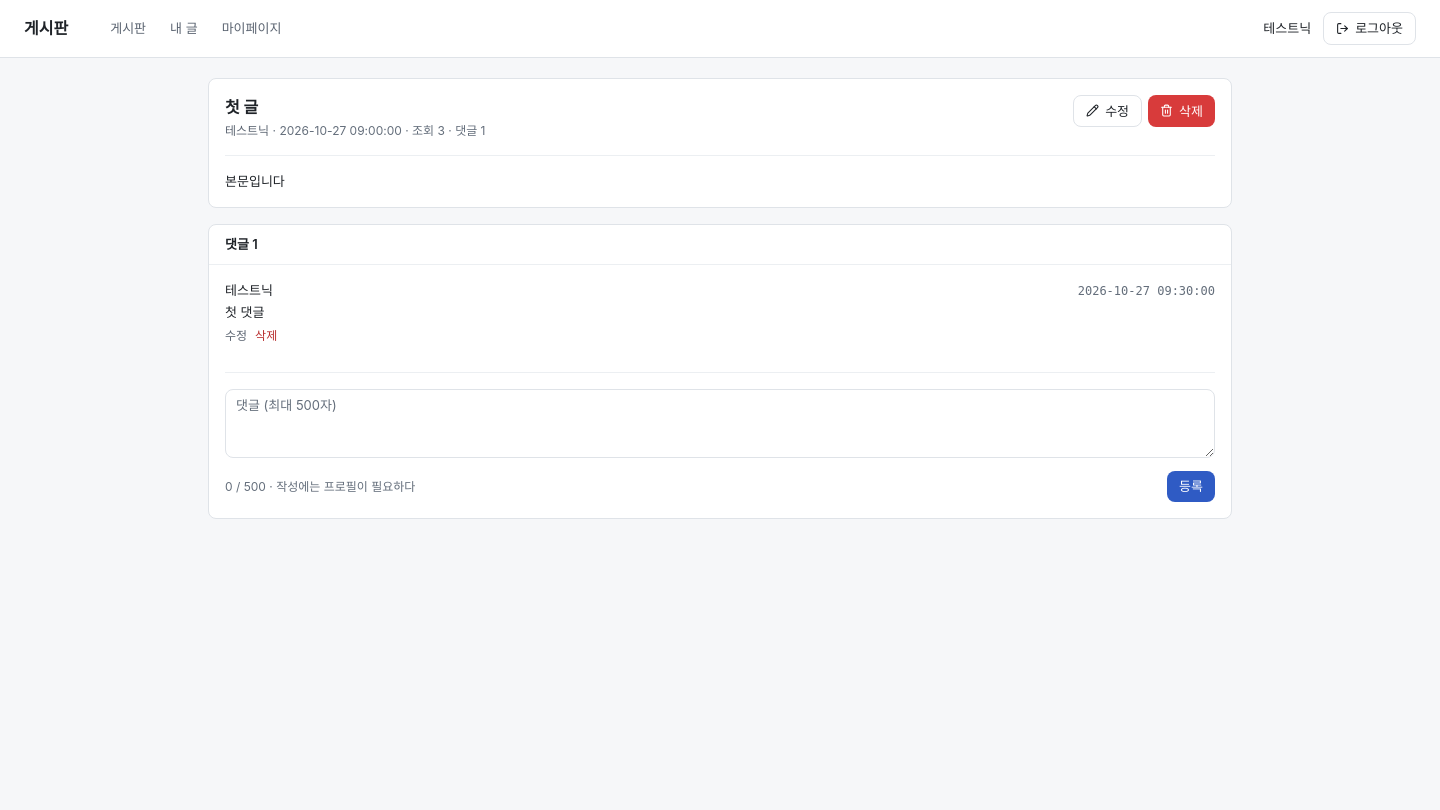
화면마다 보이는 문구 › 글 상세 — 댓글 수정 입력 오류 — 검사 목록에 걸리는 것이 없다
Click the button "수정" below "첫 댓글".
click(236, 336)  # box x1=225 y1=328 x2=247 y2=344
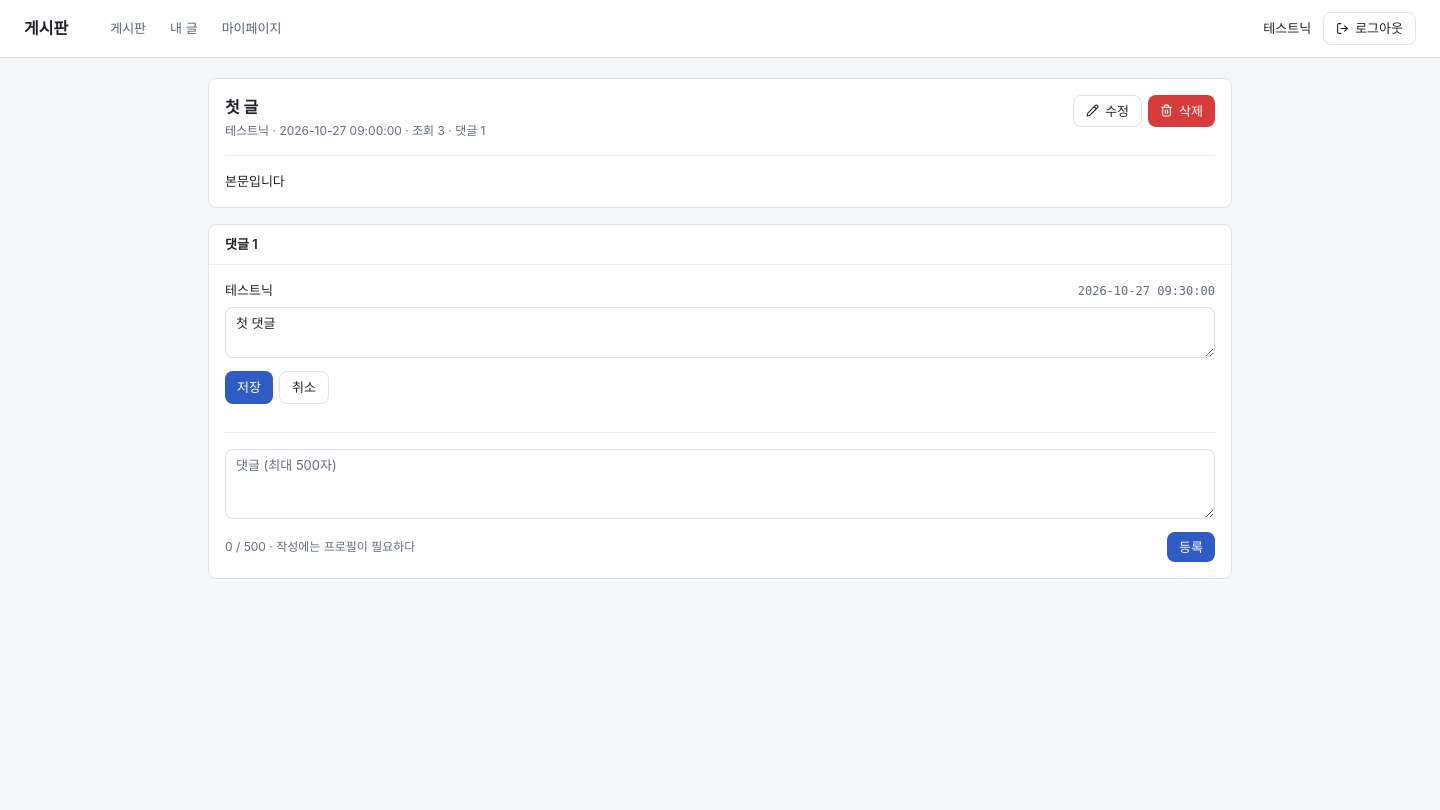
Click the button "저장".
click(249, 388)  # box x1=225 y1=371 x2=273 y2=404
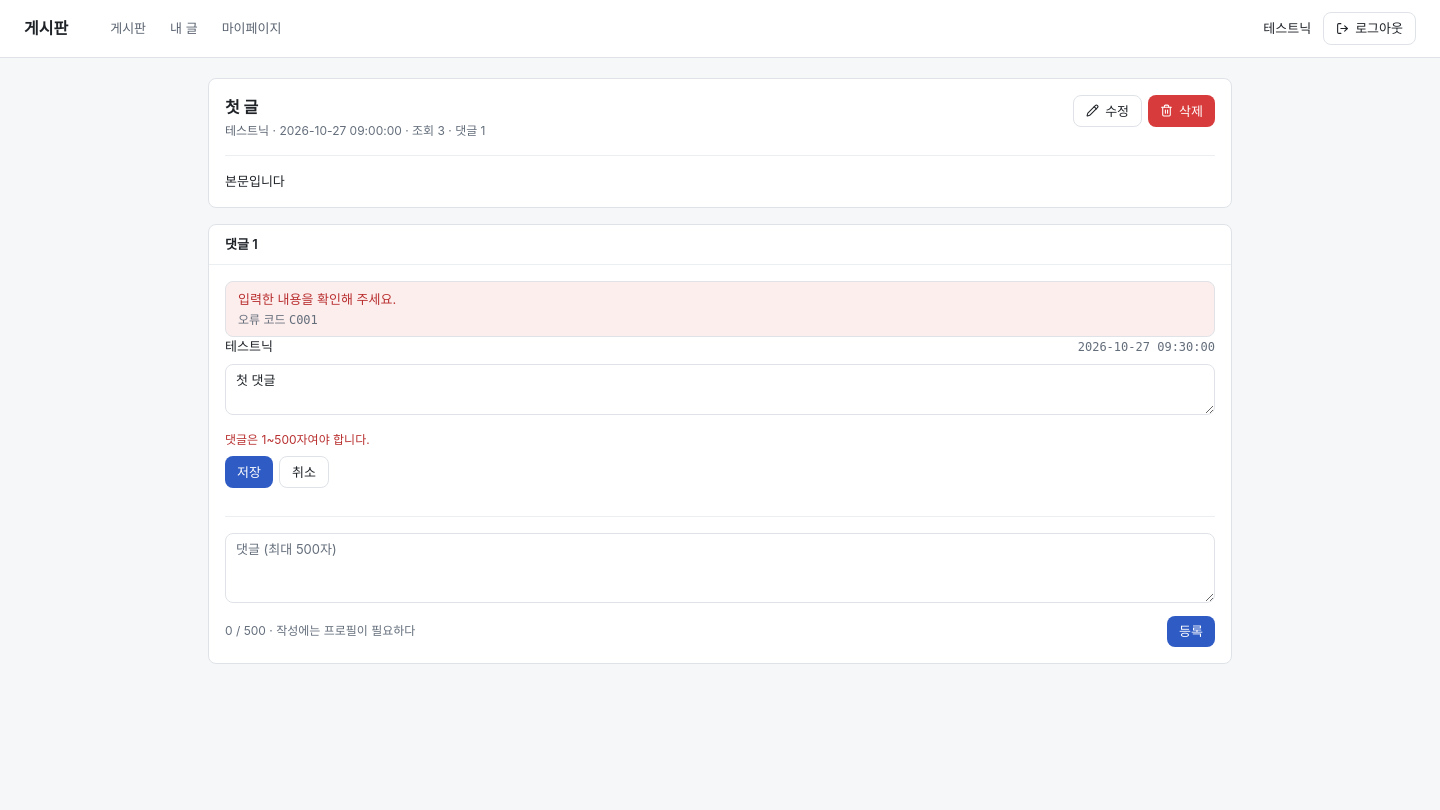
Expected: the element showing "입력한 내용을 확인해 주세요. 오류 코드 C001" is shown, x1=225 y1=281 x2=1215 y2=337
